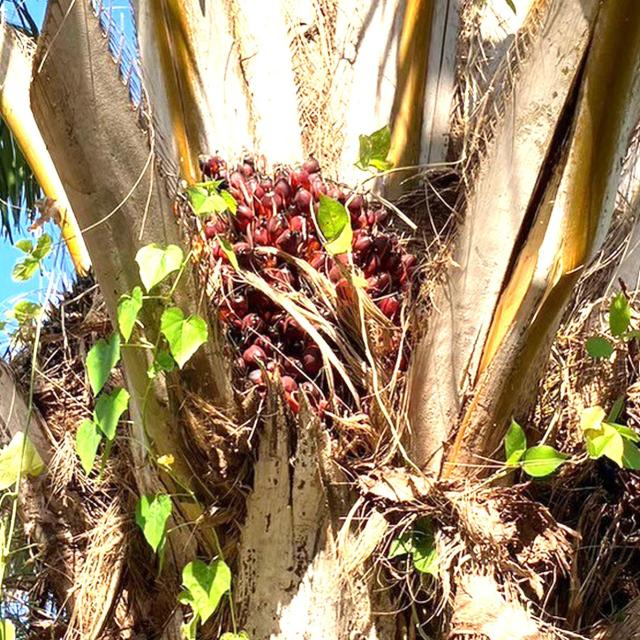ripe: (179, 145, 431, 462)
